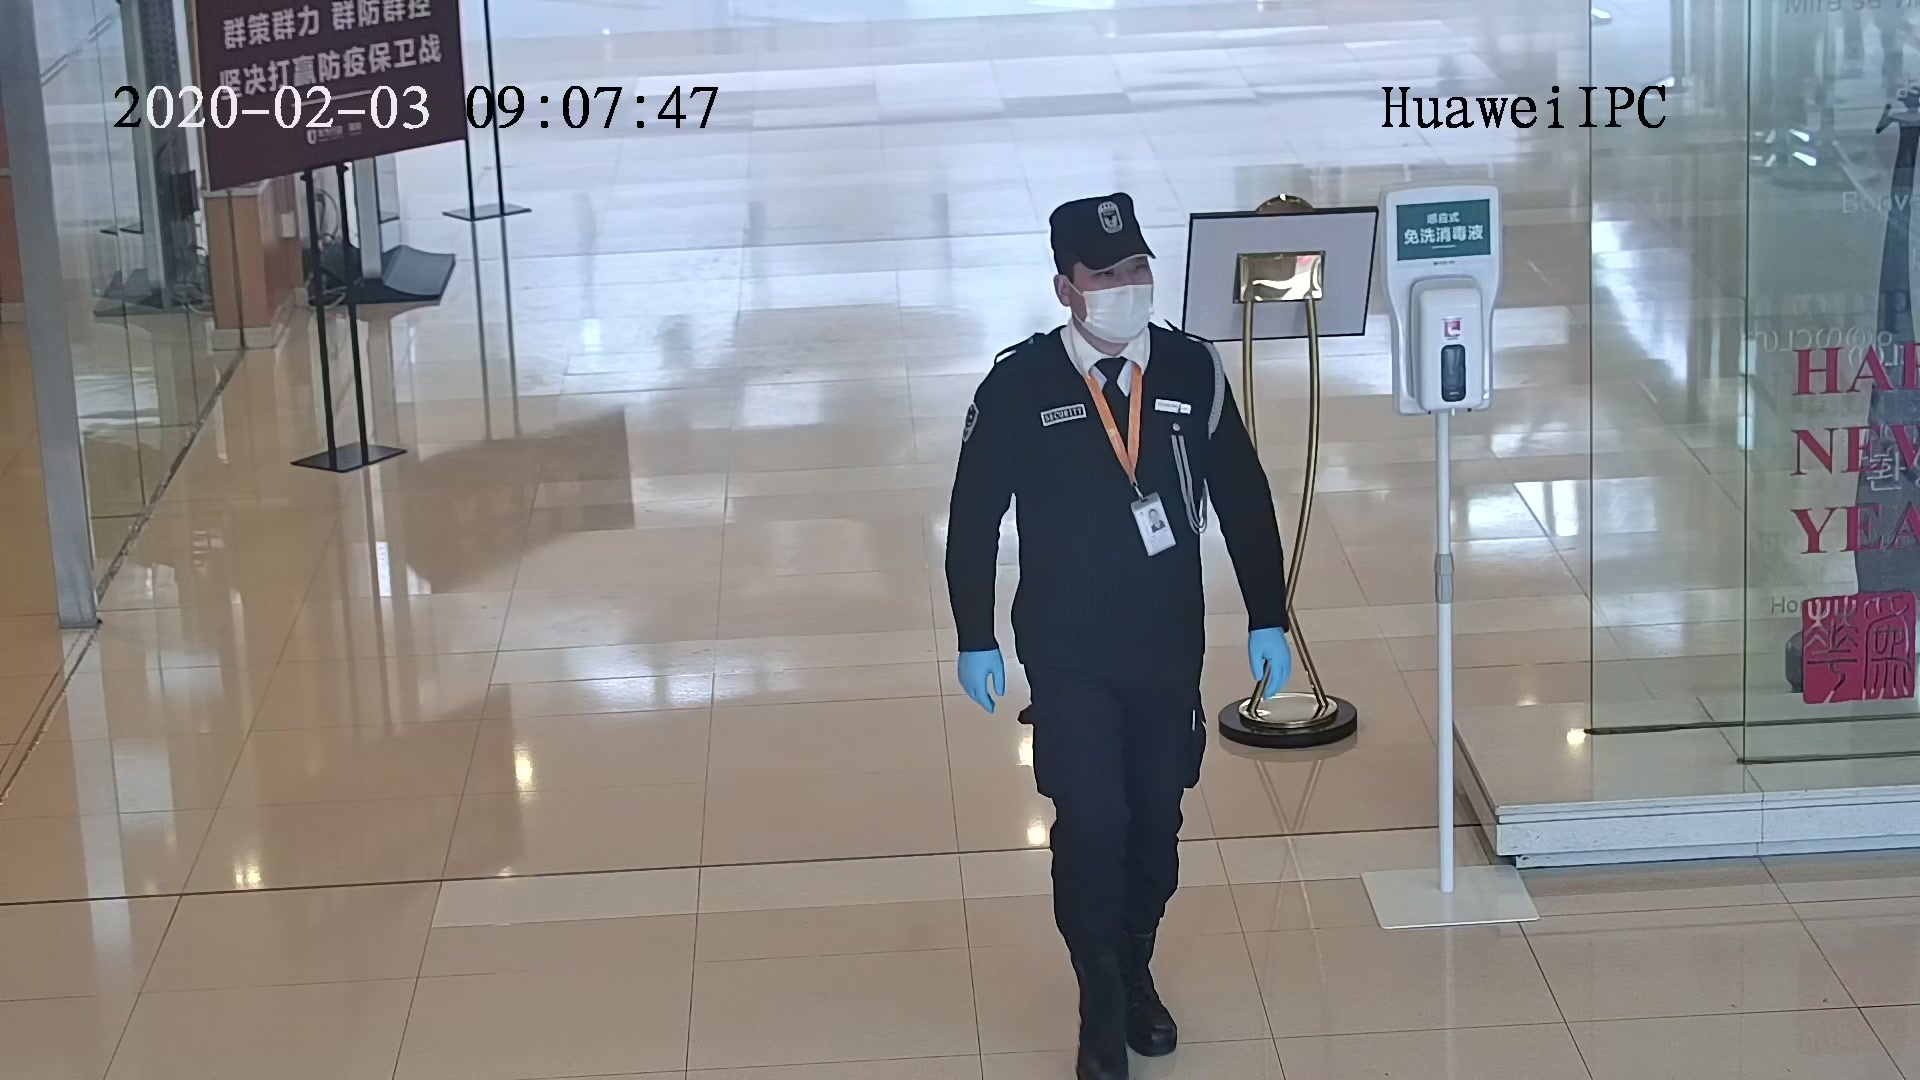face: (1066, 244, 1154, 344)
mask: (1085, 286, 1154, 340)
person: (984, 192, 1222, 422)
